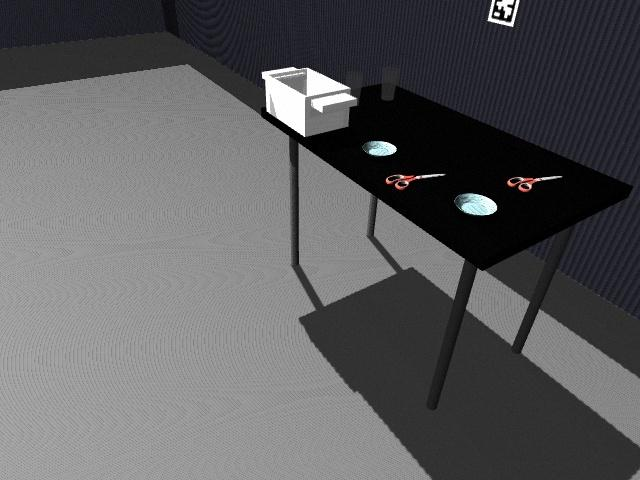cup: (345, 71, 365, 103), (381, 67, 399, 102)
plate: (452, 192, 500, 217), (362, 140, 398, 157)
scissors: (387, 173, 446, 192), (507, 175, 560, 192), (385, 174, 416, 185)
